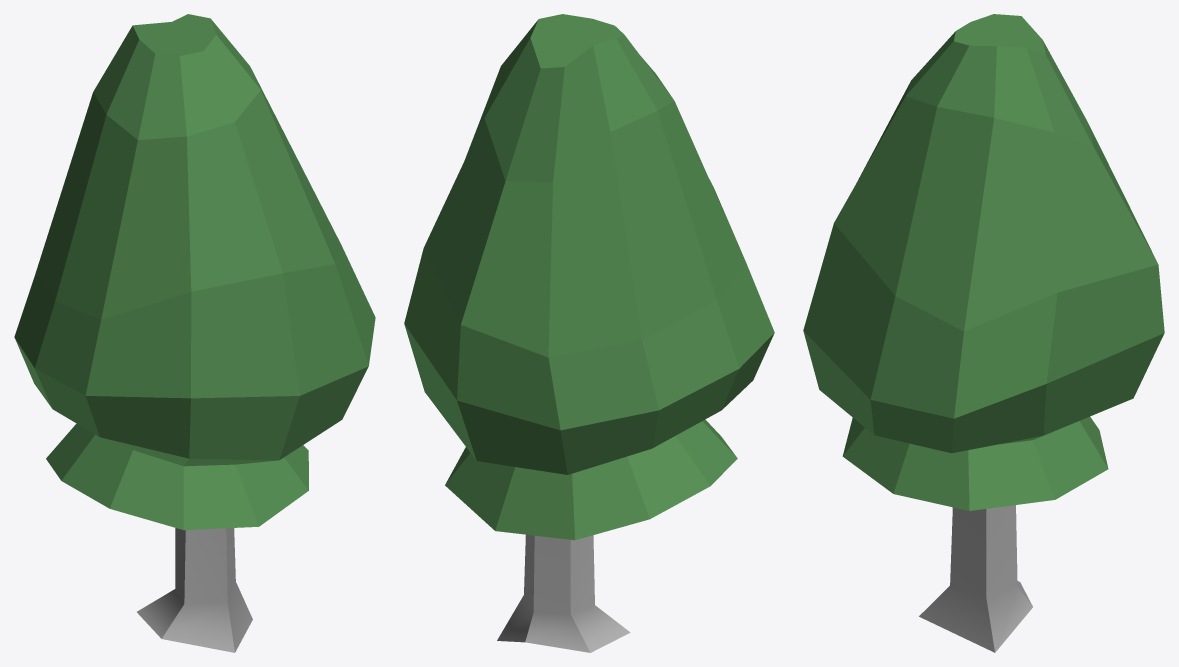
The model's file is Tree1.fbx.
3 renders of one model, left to right at view 1: azimuth 30°, elevation 25°; view 2: azimuth 150°, elevation 25°; view 3: azimuth 270°, elevation 25°, orthographic. The views are drawn at different scales.
Visible parts, largest first — view 1: pSphere8, pCylinder37; view 2: pSphere8, pCylinder37; view 3: pSphere8, pCylinder37.
Part boxes in pixels (x1,y1,x2,y2): pSphere8: [14, 14, 375, 530]; pCylinder37: [137, 528, 252, 652]; pSphere8: [404, 14, 774, 540]; pCylinder37: [497, 534, 630, 652]; pSphere8: [803, 14, 1164, 510]; pCylinder37: [919, 505, 1032, 652].
Size of the model in its own units: 16.42 by 29.27 by 16.33.
